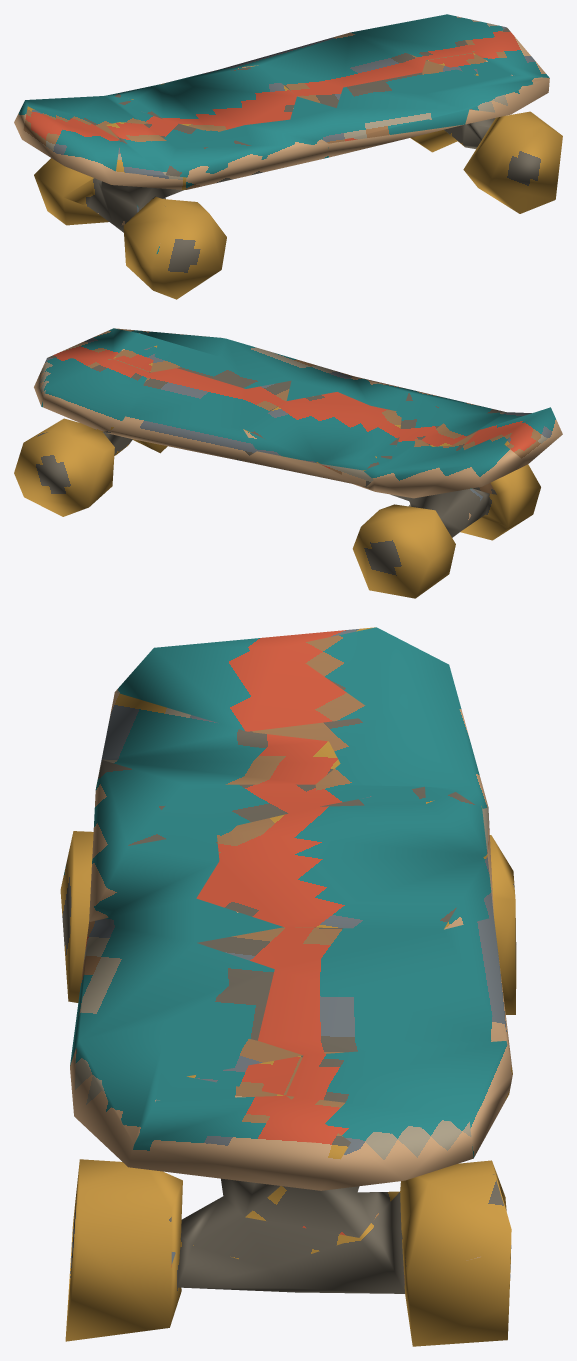
The model's file is toy-skateboard.glb.
The picture shows the model from 3 angles, top to bottom: view 1: azimuth 30°, elevation 25°; view 2: azimuth 150°, elevation 25°; view 3: azimuth 270°, elevation 25°; orthographic projection. The views are drawn at different scales.
Visible parts, largest first — view 1: tripo_node_fe011dab-8072-4a5d-b88f-20f8c012f2b3; view 2: tripo_node_fe011dab-8072-4a5d-b88f-20f8c012f2b3; view 3: tripo_node_fe011dab-8072-4a5d-b88f-20f8c012f2b3.
Boxes of the visible parts, <box> form: tripo_node_fe011dab-8072-4a5d-b88f-20f8c012f2b3: <box>14,14,562,299</box>; tripo_node_fe011dab-8072-4a5d-b88f-20f8c012f2b3: <box>14,328,562,598</box>; tripo_node_fe011dab-8072-4a5d-b88f-20f8c012f2b3: <box>60,627,516,1346</box>.
Size of the model in its own units: 0.9901 by 0.2992 by 0.4043.
1 material, 1 textured.
